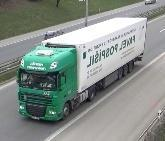truck: (17, 18, 147, 122)
